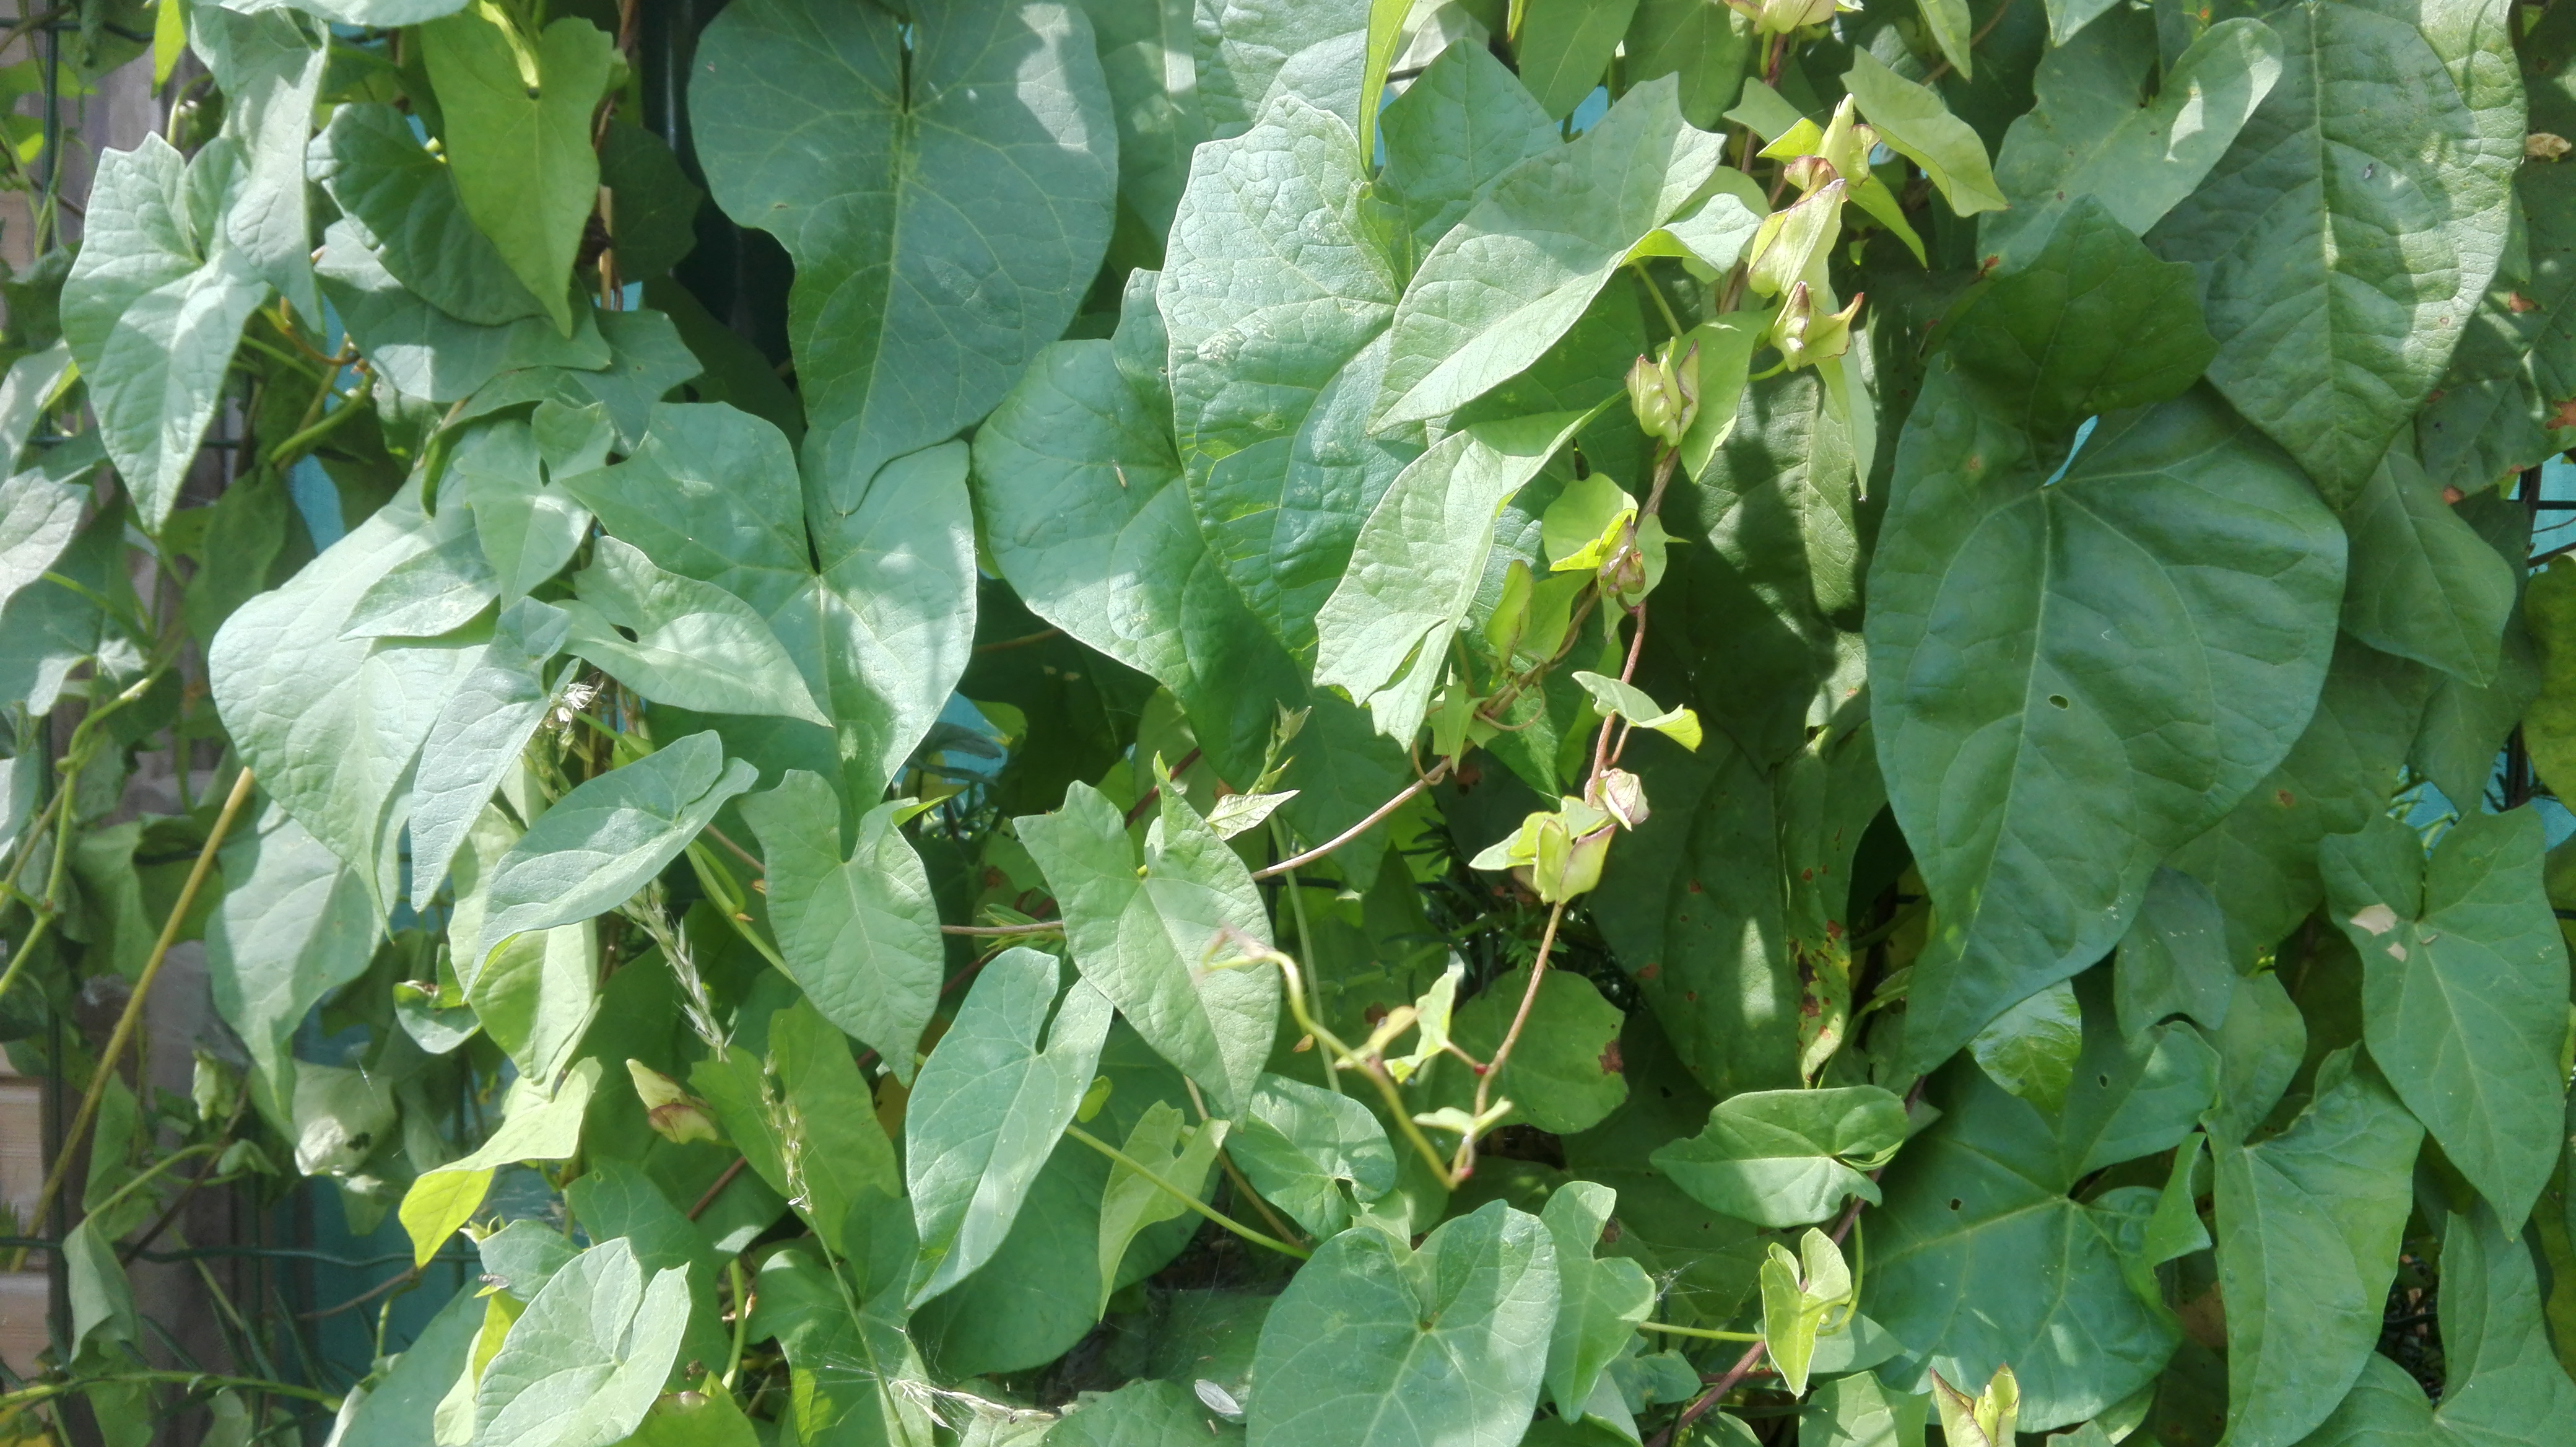haagwinde: (1847, 288, 2362, 1106), (686, 9, 1152, 536), (1332, 64, 1792, 490), (487, 725, 966, 1106), (2293, 787, 2576, 1272), (51, 99, 334, 555), (989, 768, 1302, 1132), (1217, 1168, 1578, 1447), (943, 900, 1132, 1313)
